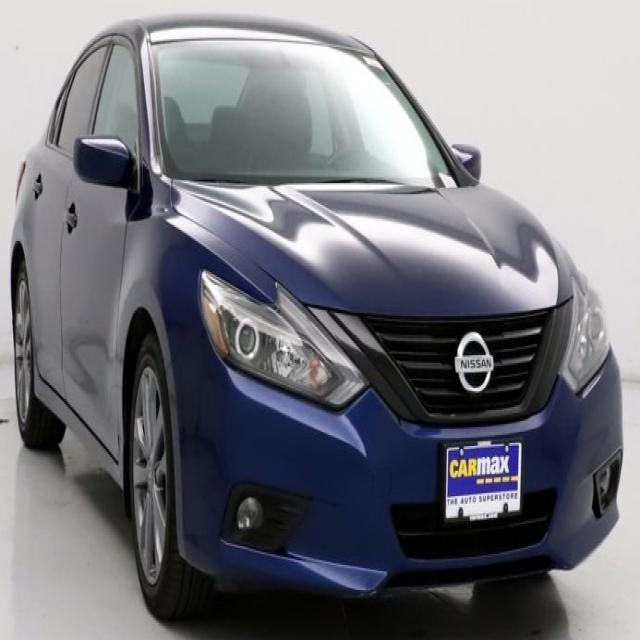blue: (11, 8, 627, 640)
